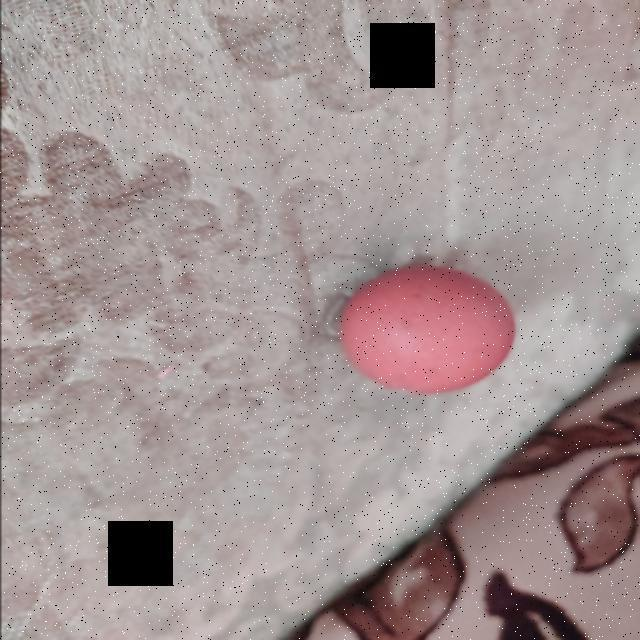egg: (334, 262, 516, 396)
